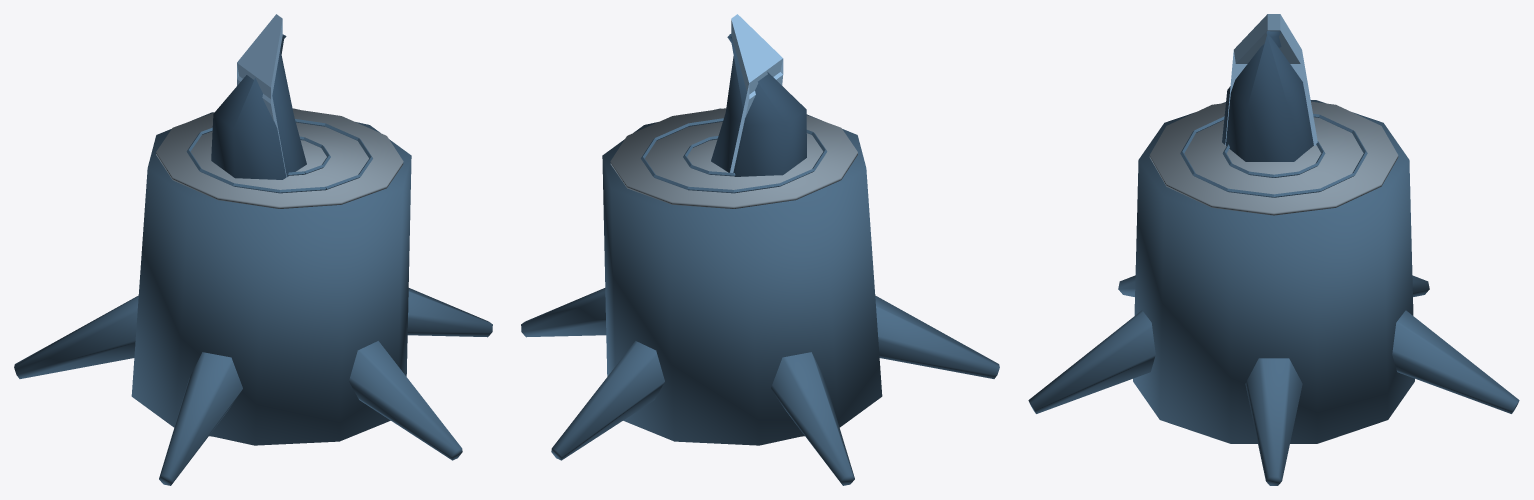
The model's file is stump.glb.
3 renders of one model, left to right at view 1: azimuth 30°, elevation 25°; view 2: azimuth 150°, elevation 25°; view 3: azimuth 270°, elevation 25°, orthographic.
Parts seen in each view (by area): view 1: Near; view 2: Near; view 3: Near.
Boxes of the visible parts, left/top/right/bottom form: Near: left=14, top=14, right=492, bottom=485; Near: left=521, top=14, right=999, bottom=485; Near: left=1028, top=14, right=1519, bottom=485.
Size of the model in its own units: 1.16 by 1.05 by 1.22.
